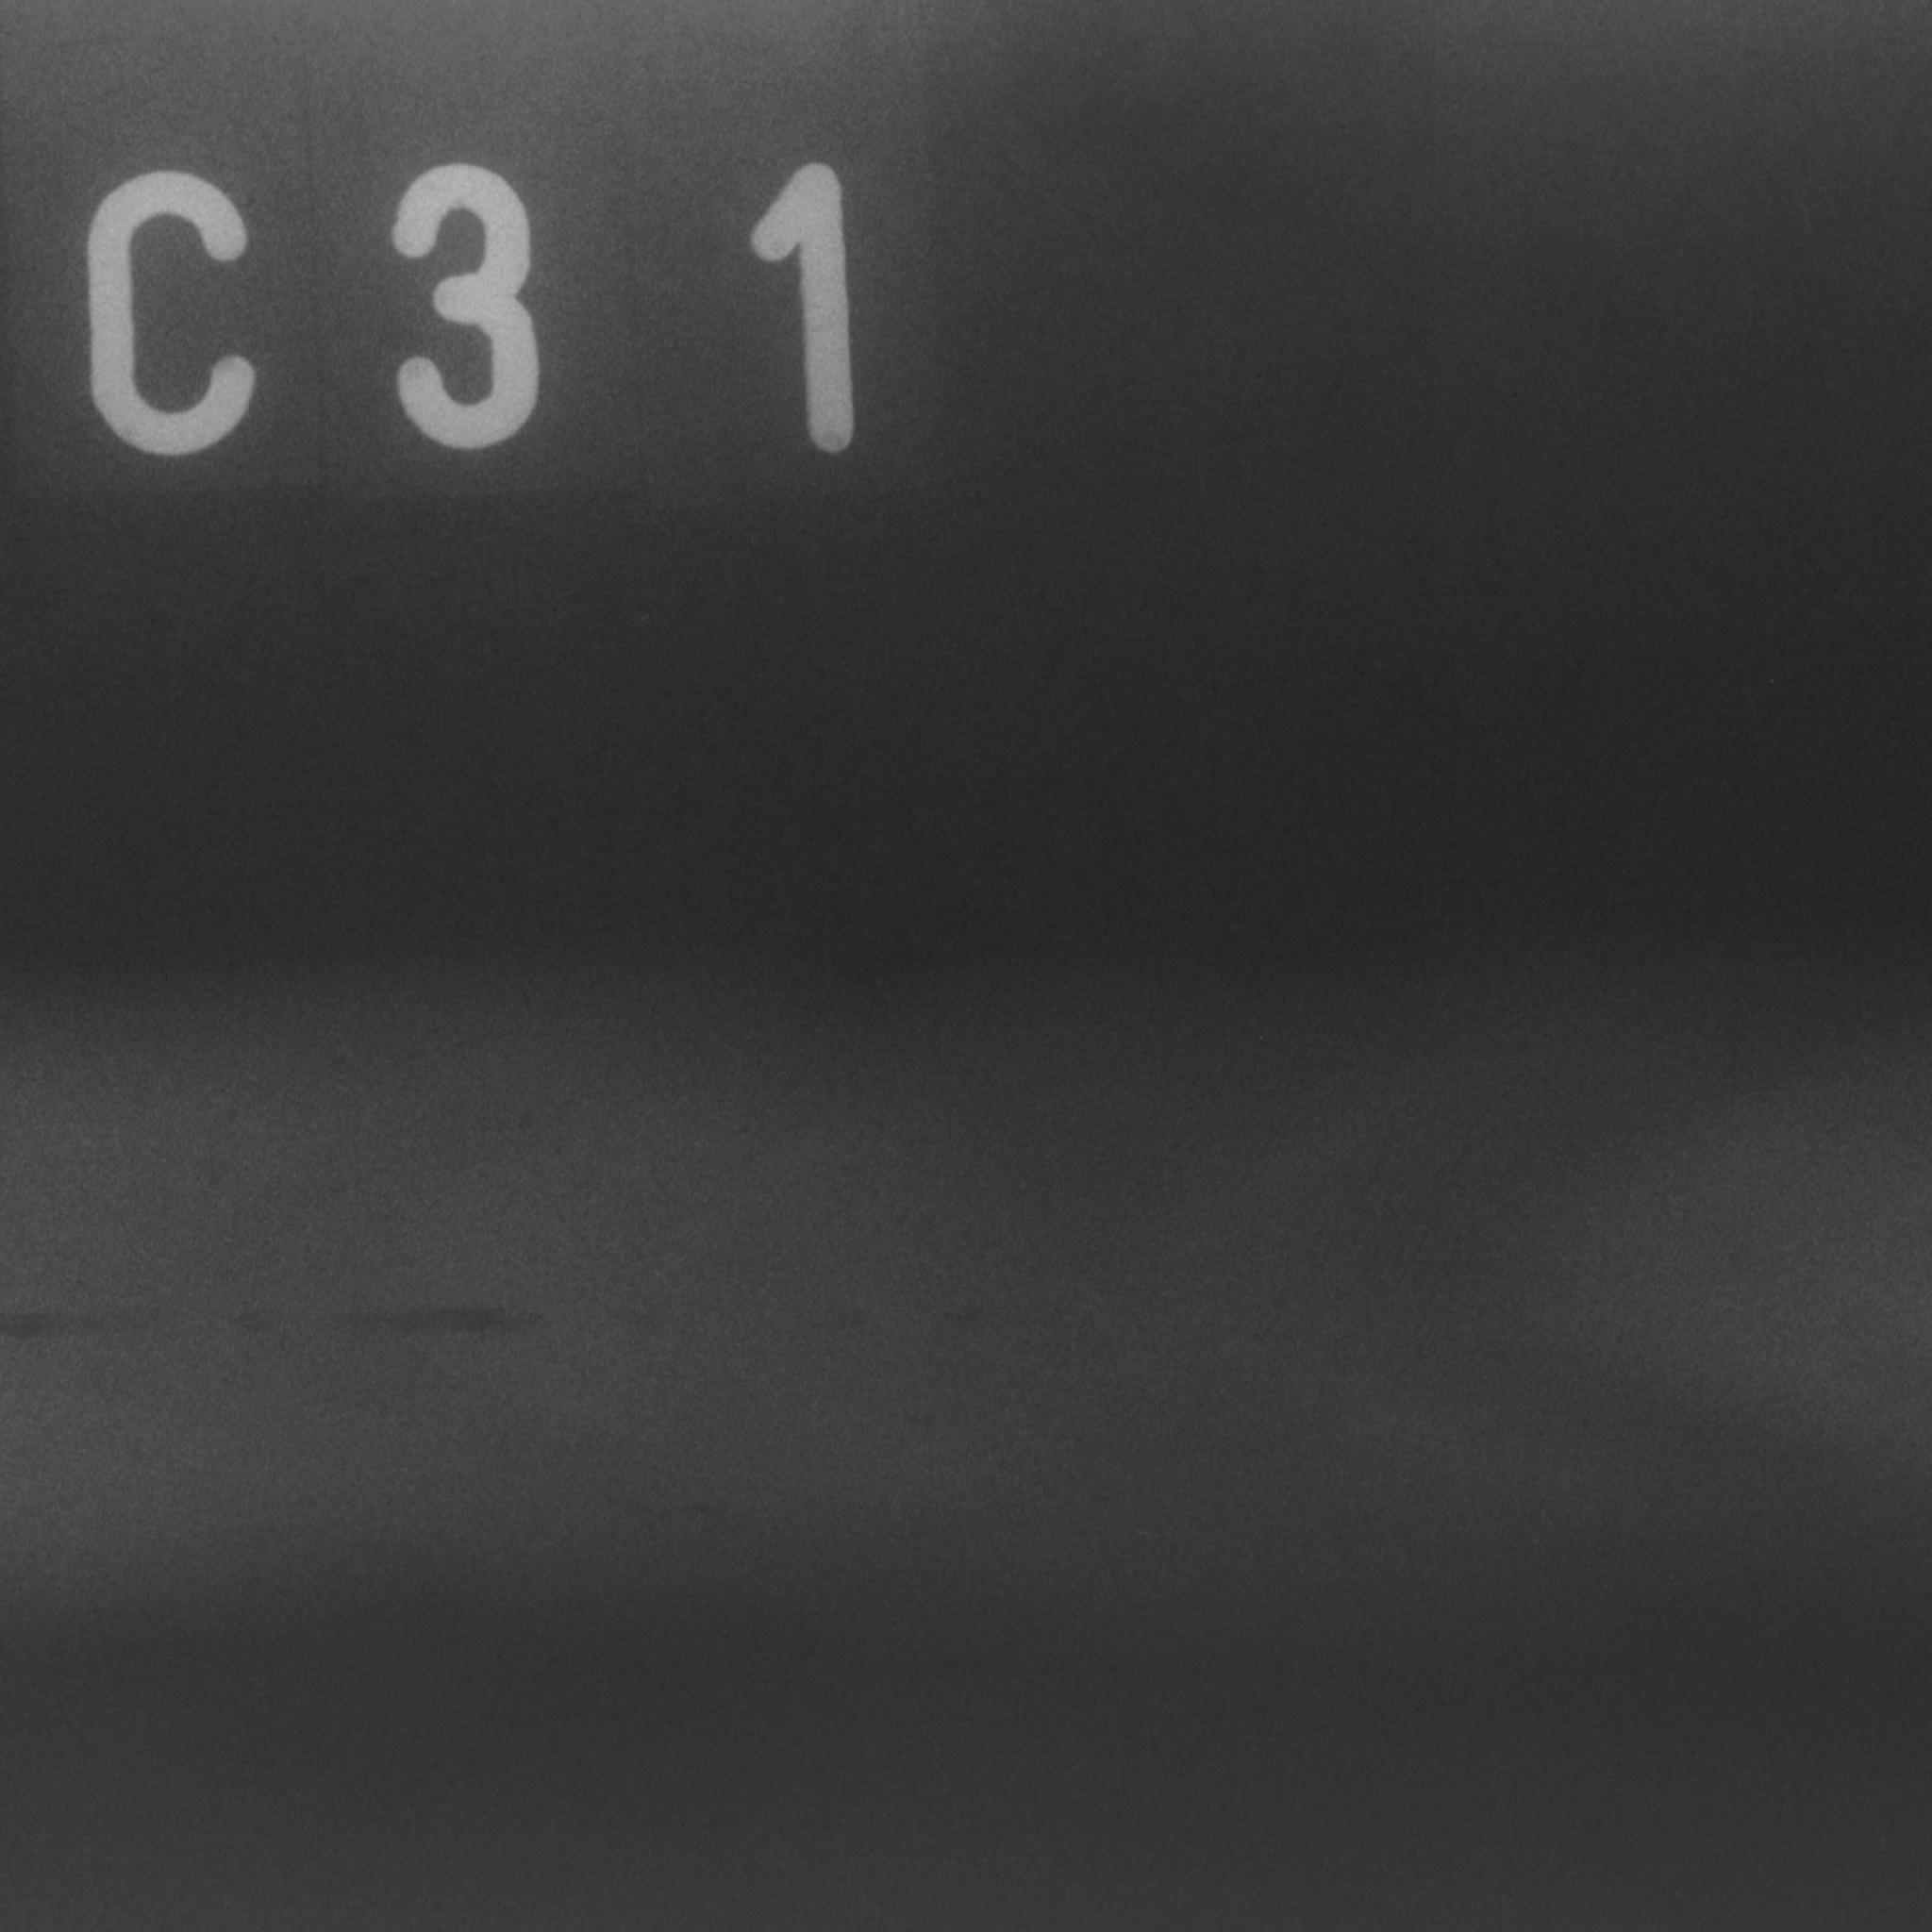FF: (846, 915, 1794, 1656)
FP: (0, 1231, 840, 1408)
